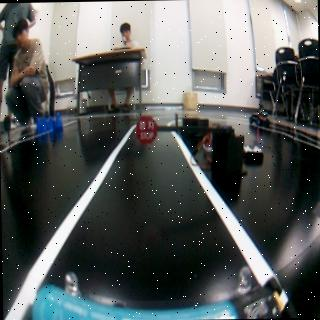stop: (135, 114, 159, 141)
